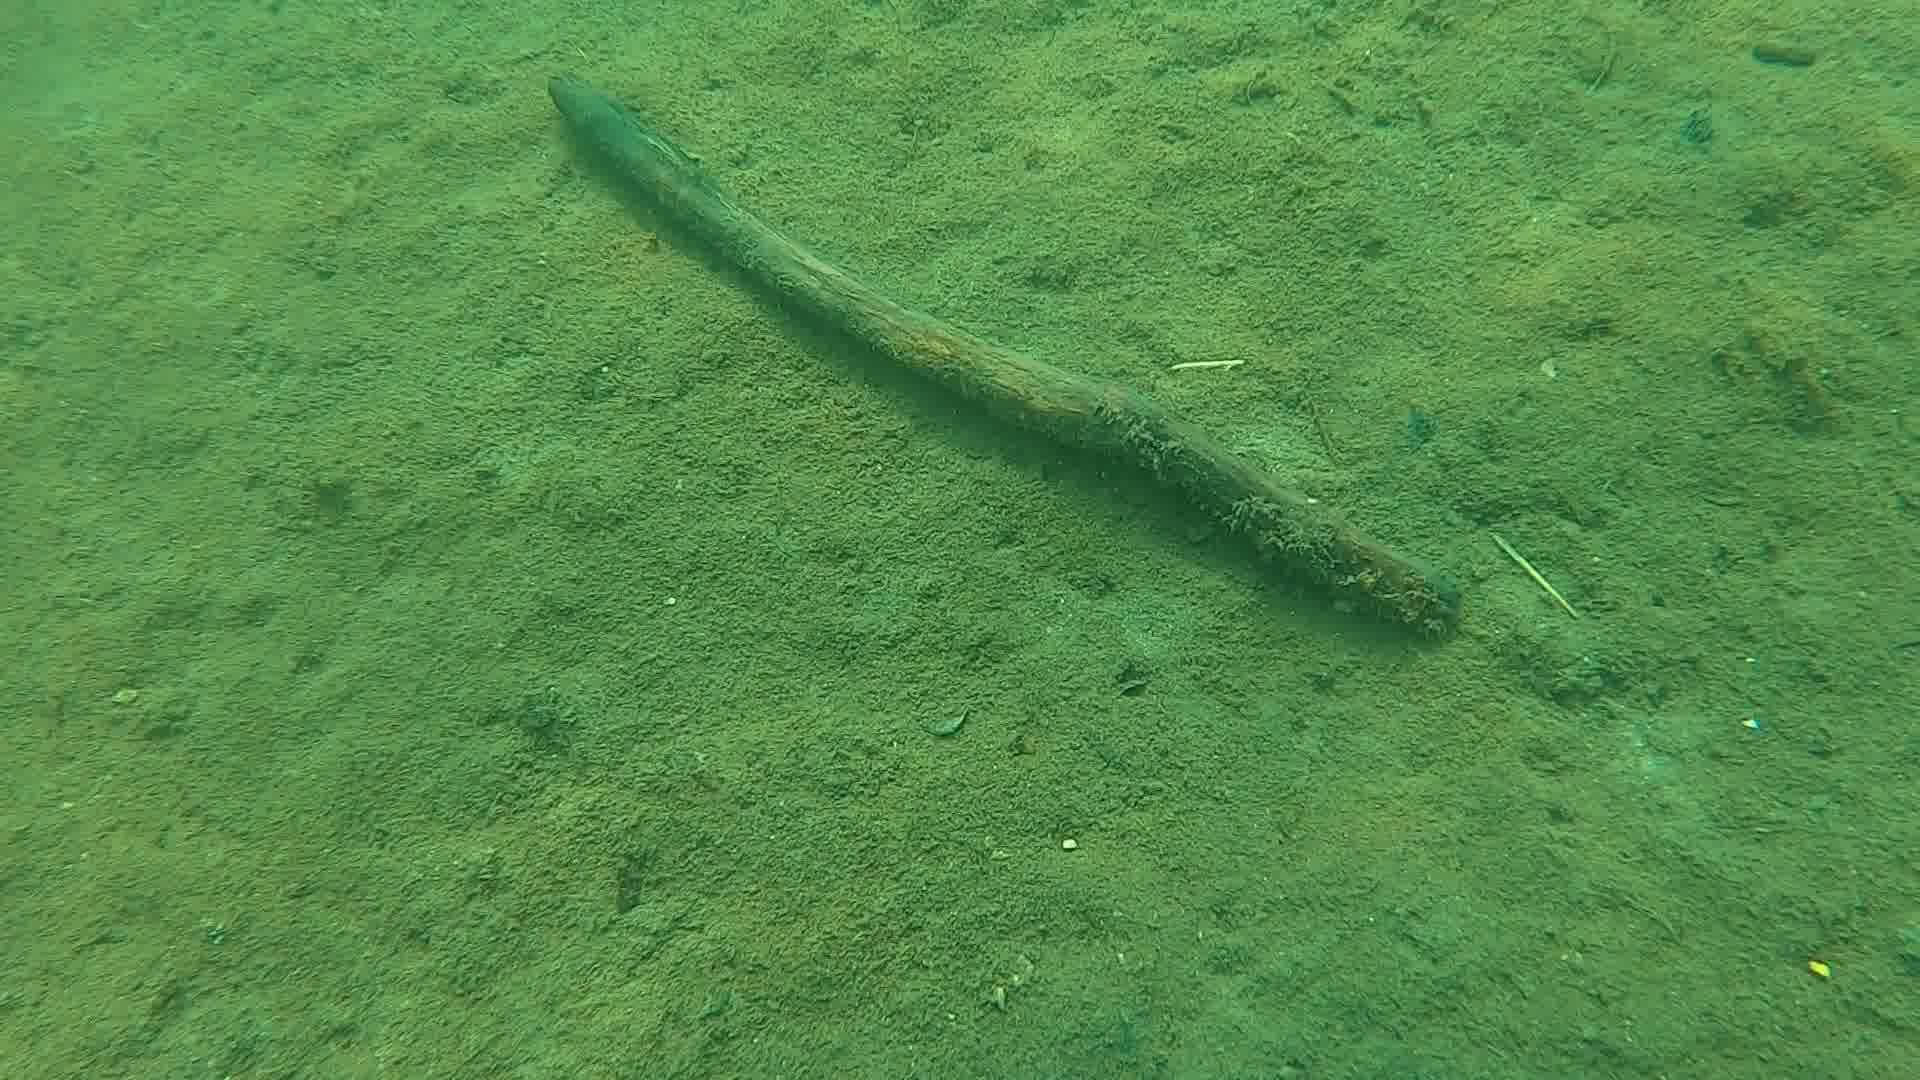wood: (546, 69, 1465, 644)
